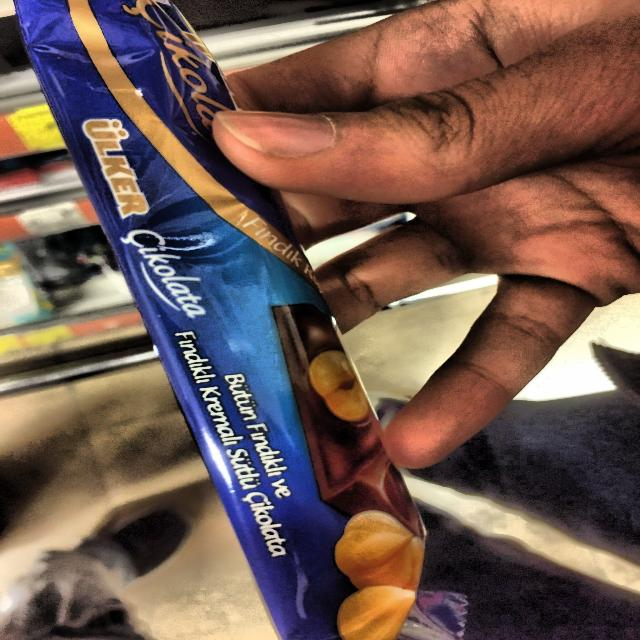Plastic: (11, 0, 471, 640)
